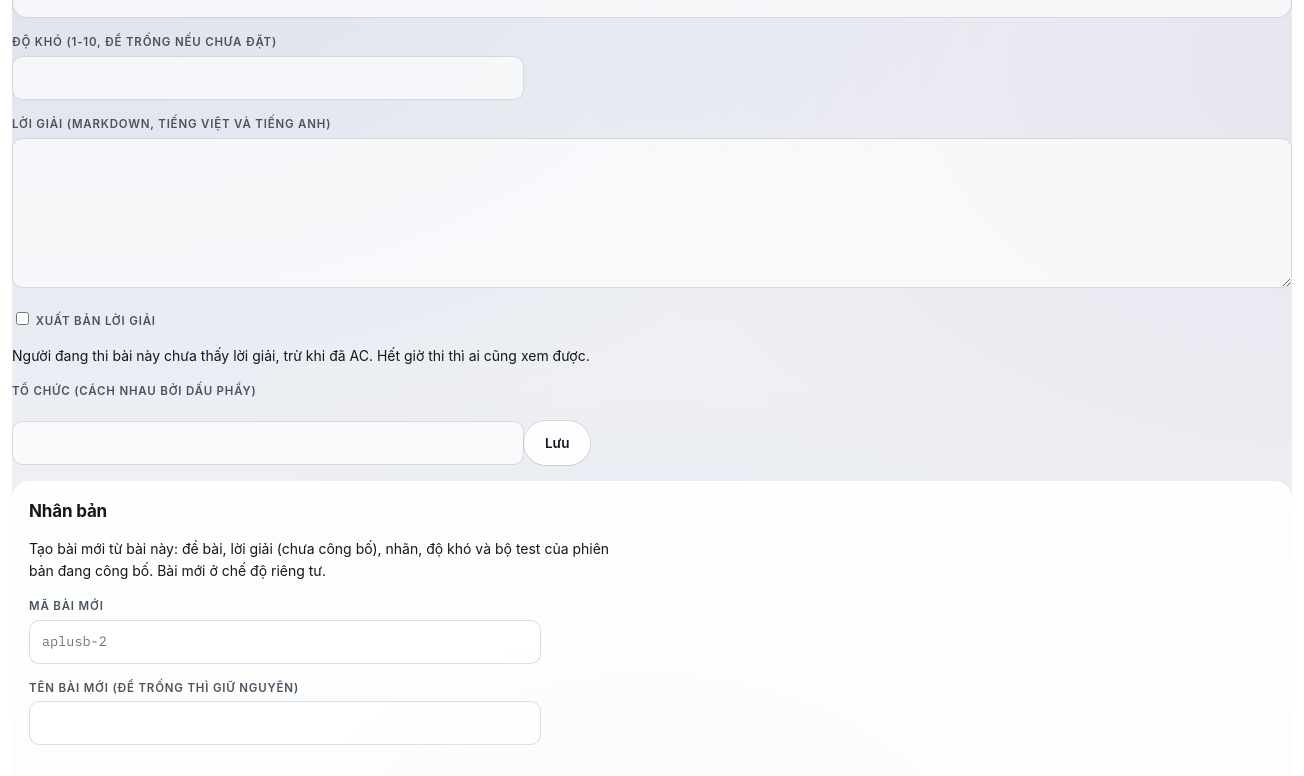
Scenario: ProblemEditPage — the statement is not thrown away silently › says it is saving rather than just going grey (D148)
(page scrolled)
Click the button "Lưu" at (557, 443), box [524, 421, 590, 465]
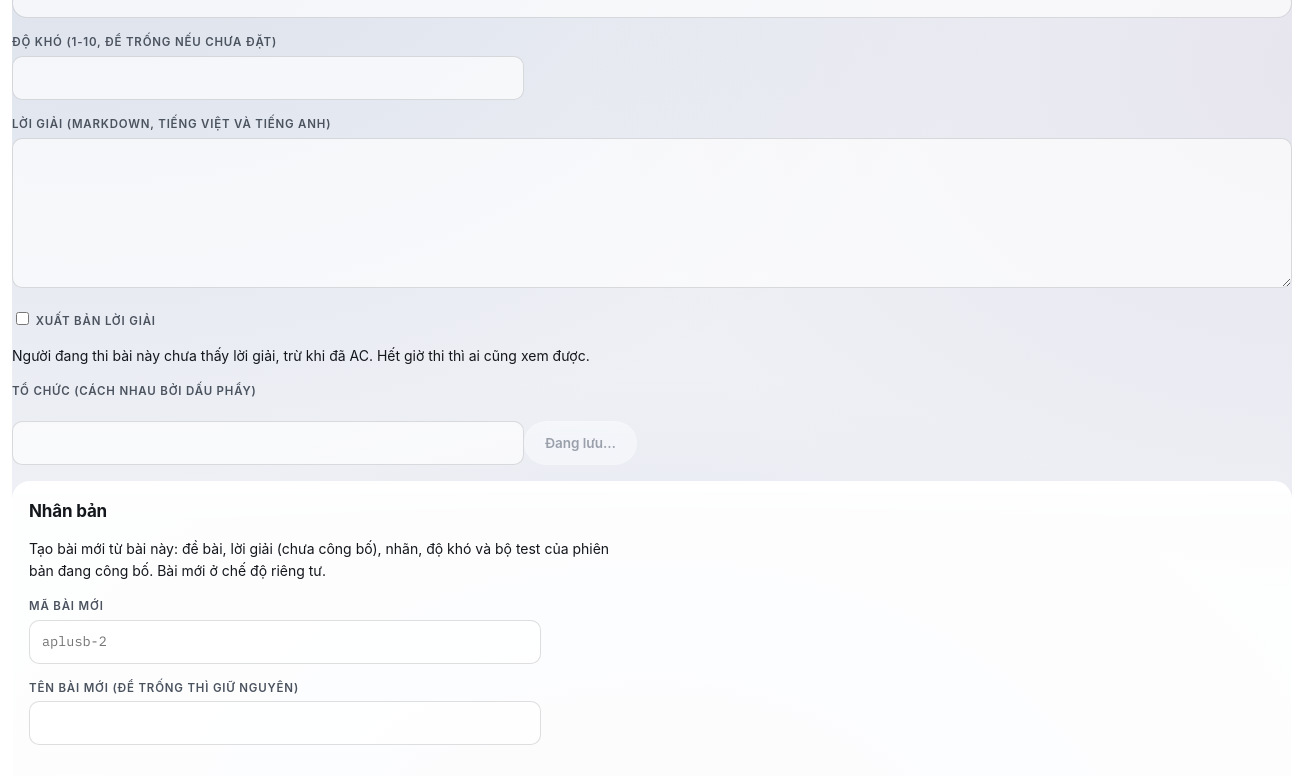
Expected: the button "Đang lưu…" is disabled, [524, 421, 637, 465]
